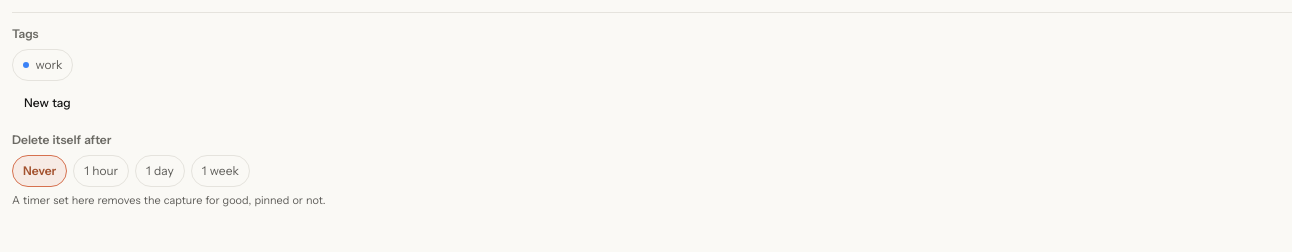
ItemOrganizer › reports a refused tag instead of showing it as applied
Click the button "work". click: x=43, y=65
box: [12,49,73,81]
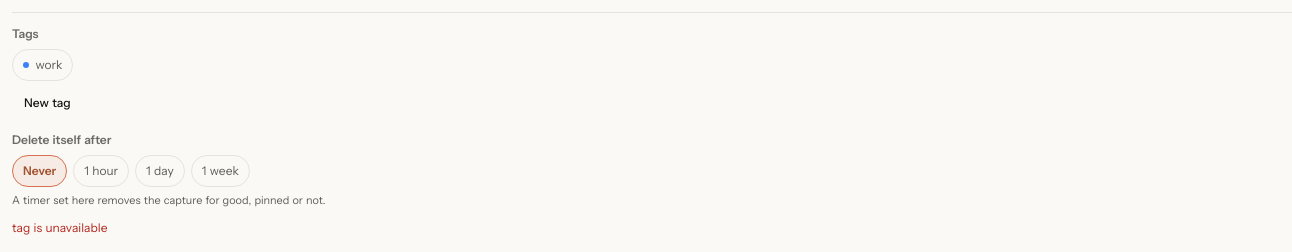
Expected: the message reads "tag is unavailable", [12,220,107,235]
